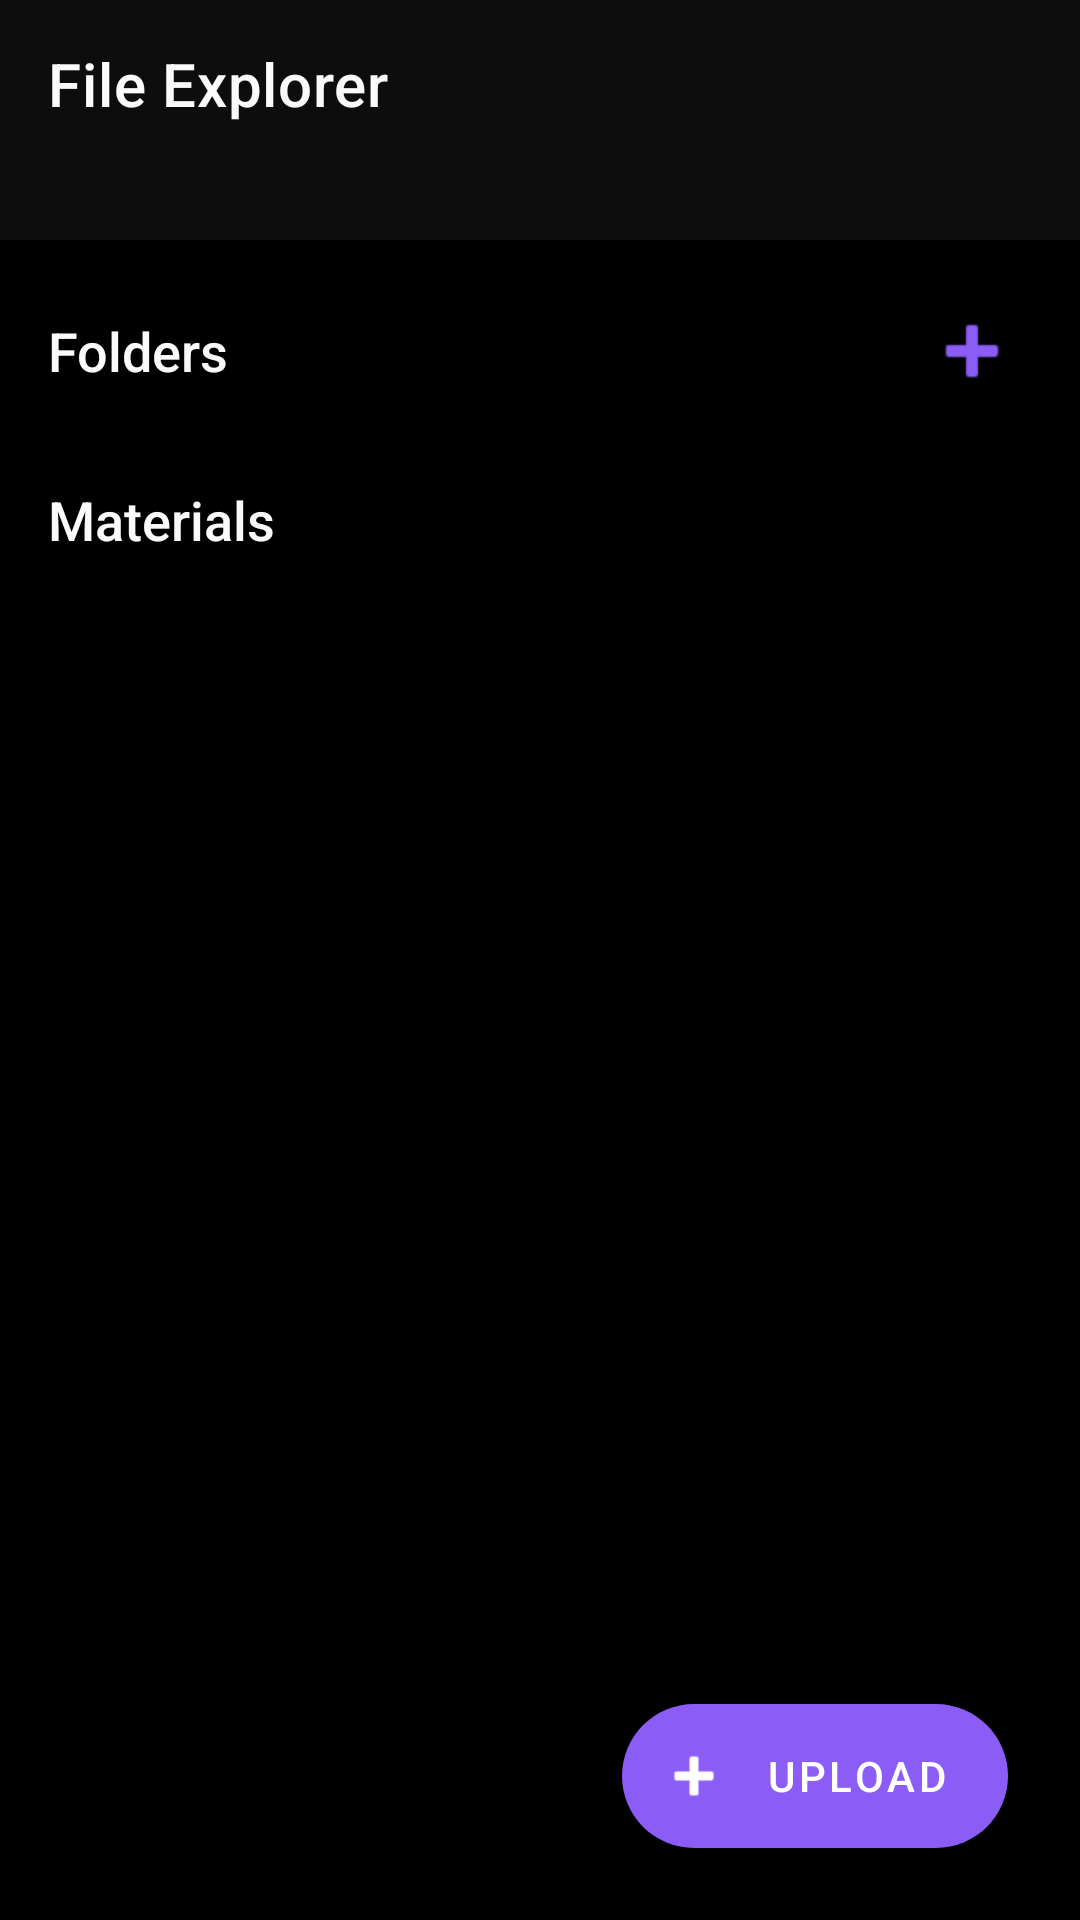

Point at icon controls on the screen. Image size 1080px×1920px, points as [x,y].
add: [972,351]
